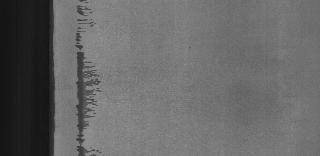oil spot: (70, 0, 108, 156)
